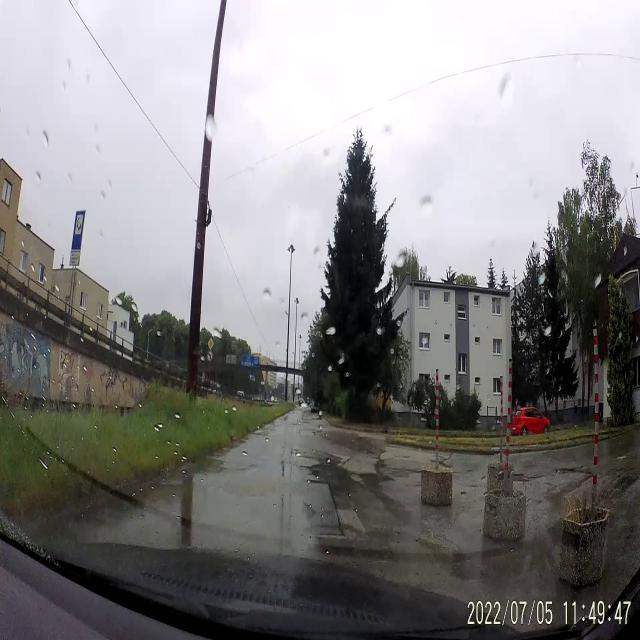Pothole: (316, 526, 352, 552), (551, 462, 586, 484), (282, 444, 310, 462)
